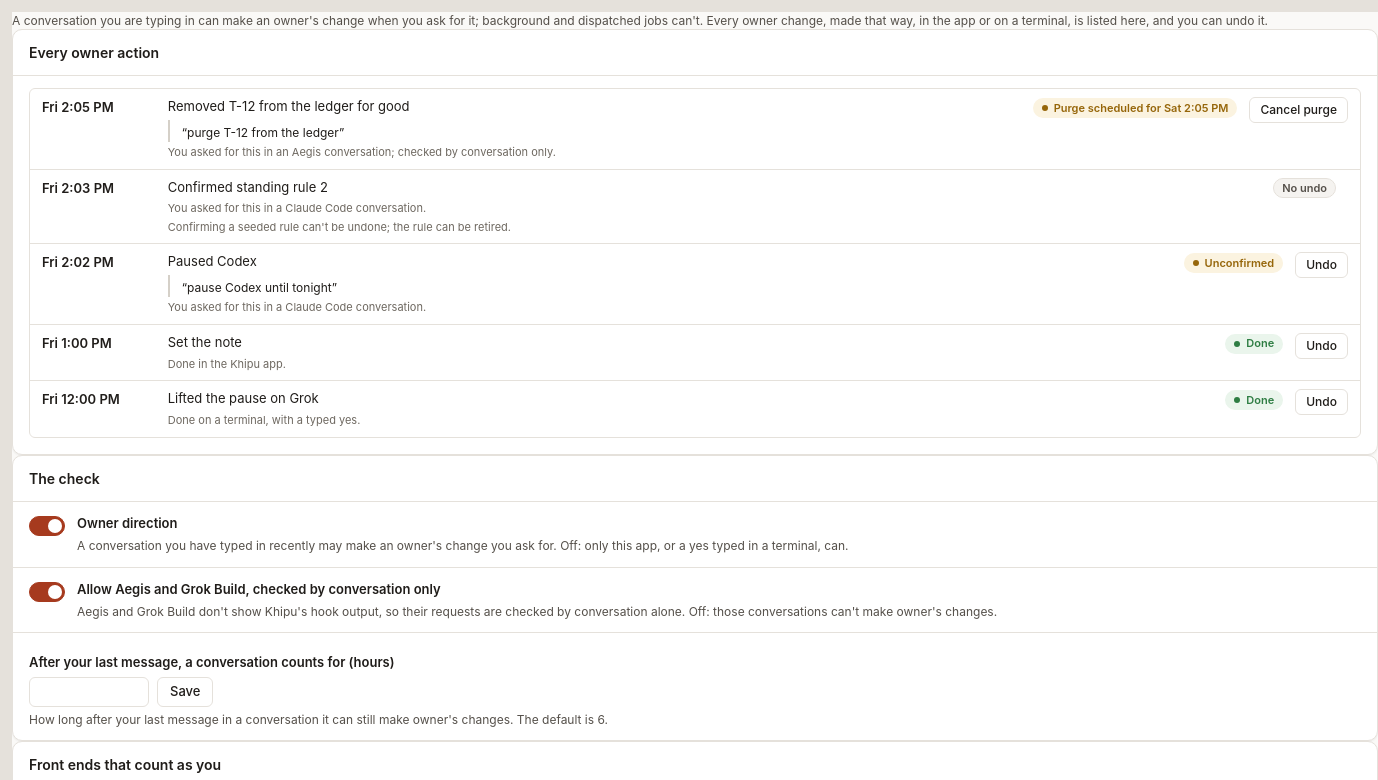
Owner actions › an unconfirmed change says so and keeps its Undo
Expected: the list item that starts with "Fri 2:02 PM" shows "Unconfirmed", 1205,256 -> 1274,270
Click the button with aria-label "Undo: Paused Codex": x=1322, y=265 1295,252 -> 1348,278
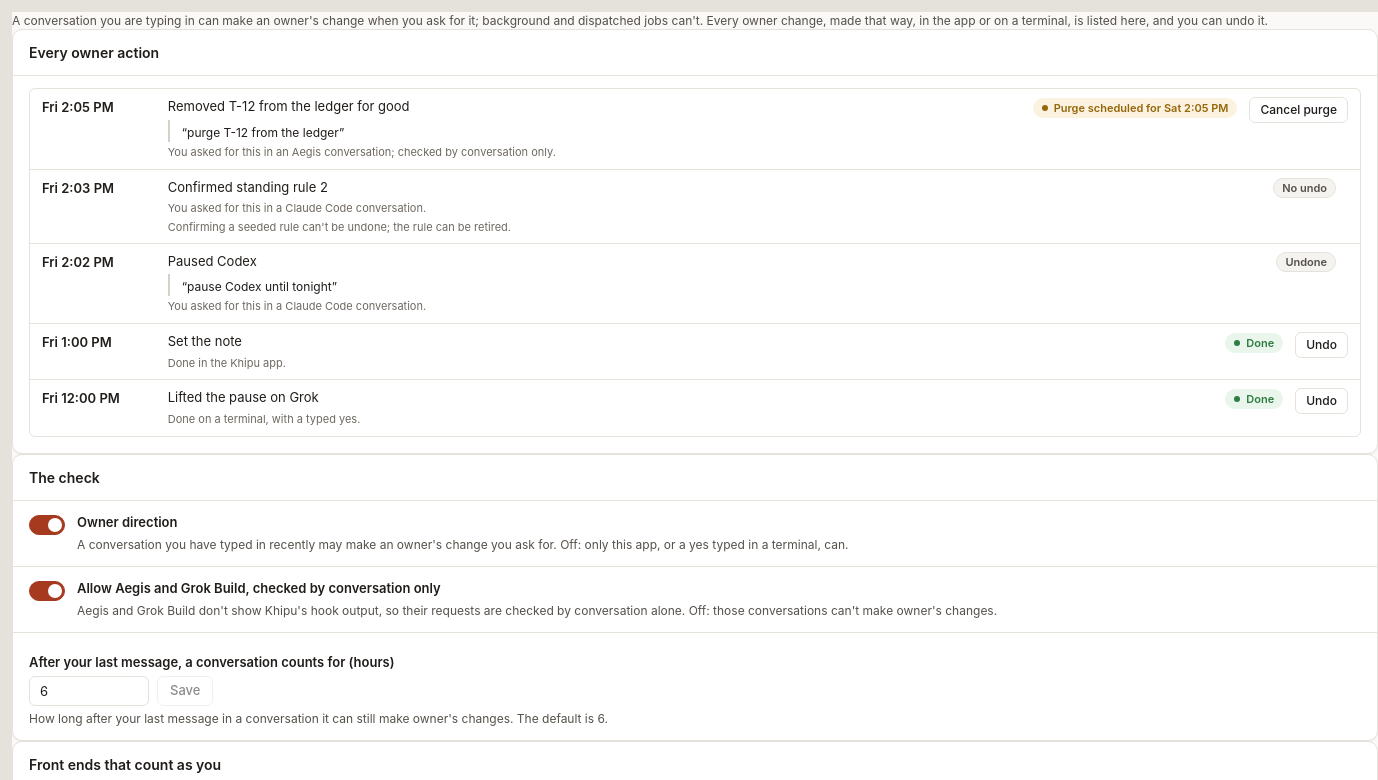
Now the text "Undone" is shown, box 1276,252 -> 1336,272
